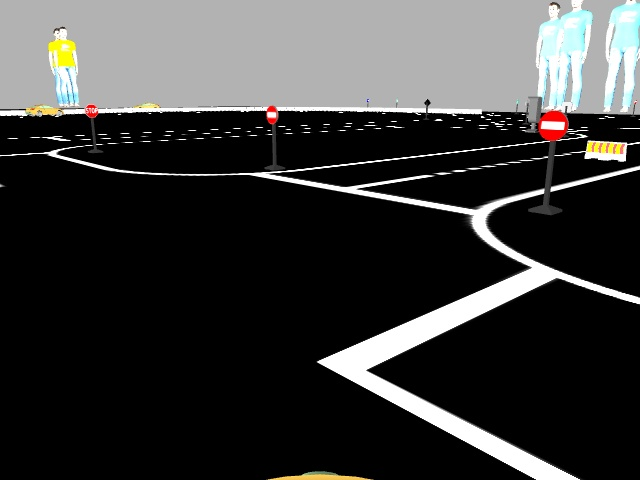ClosedRoadStand: (587, 140, 625, 160)
NoEntry: (537, 112, 569, 137), (263, 106, 281, 122)
Stop: (83, 102, 97, 118)
